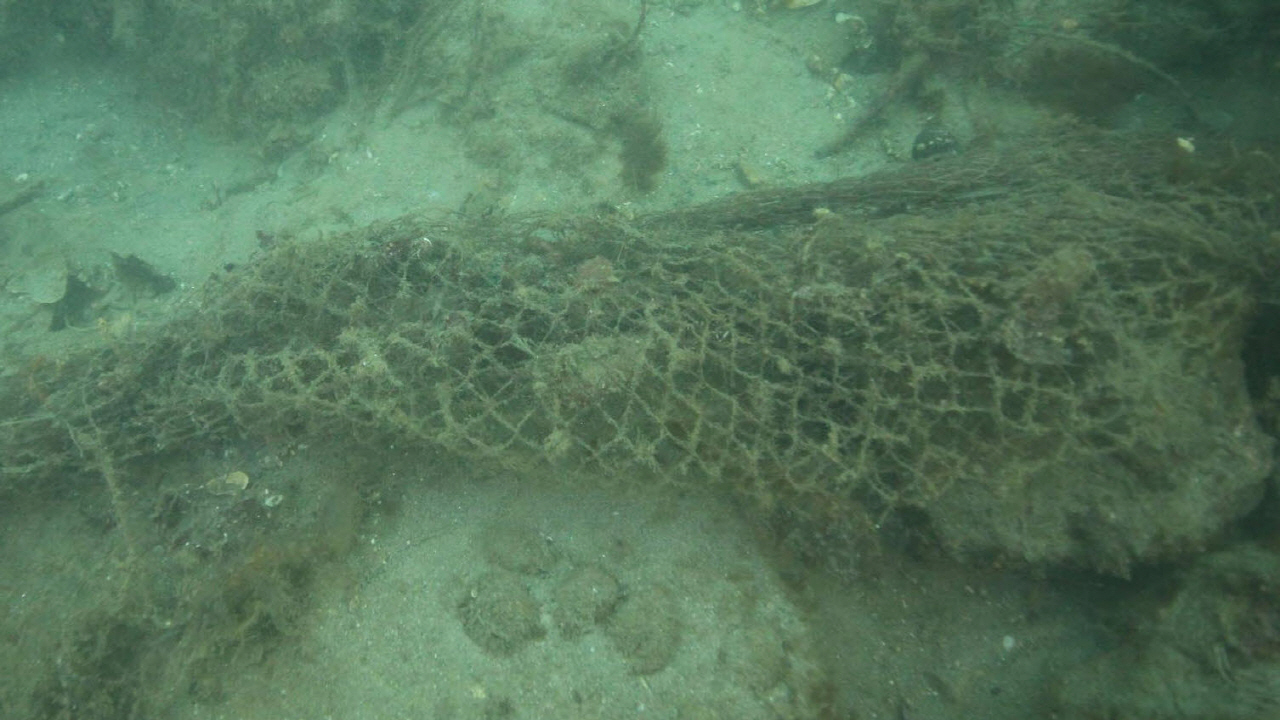fish net: (0, 133, 1279, 563)
